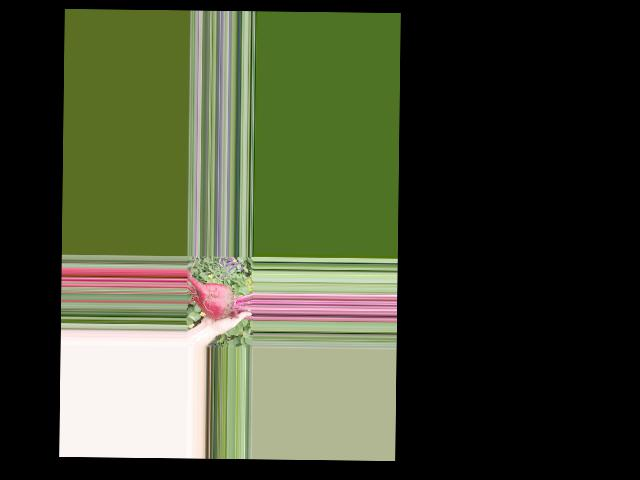beet: (185, 269, 253, 319)
